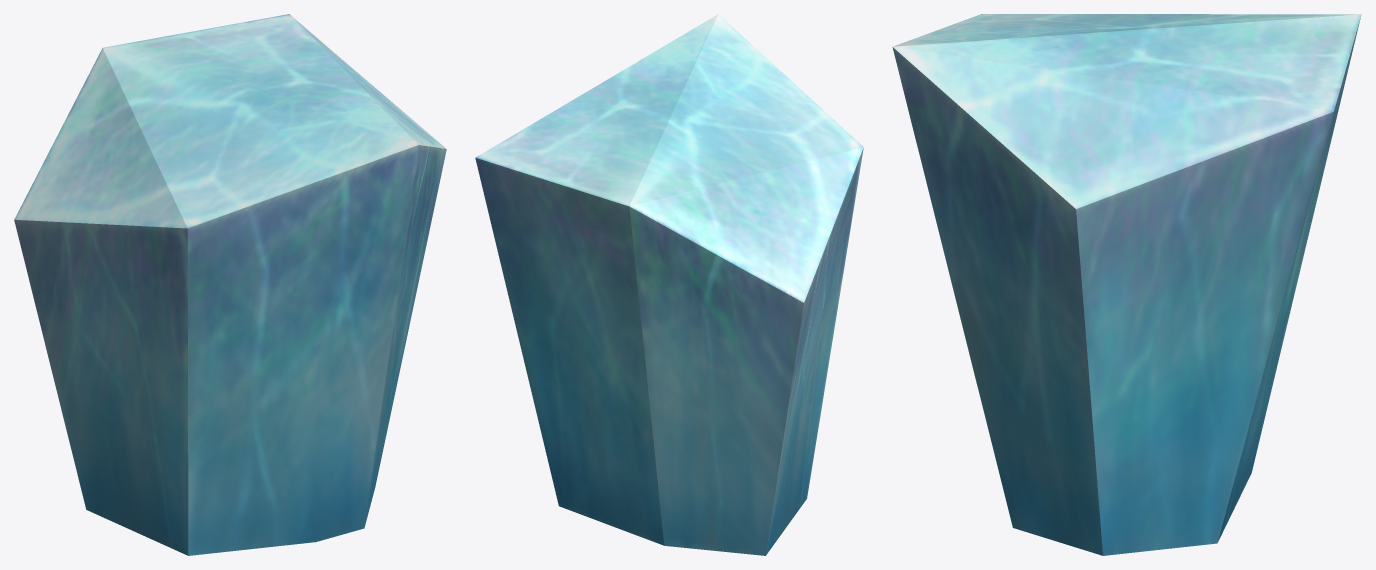
File: Ice.FBX
3 views of the same model, side by side, from view 1: azimuth 30°, elevation 25°; view 2: azimuth 150°, elevation 25°; view 3: azimuth 270°, elevation 25° (orthographic). The views are drawn at different scales.
Parts seen in each view (by area): view 1: Ice; view 2: Ice; view 3: Ice.
Boxes of the visible parts, x1,y1,x2,y2 form: Ice: (14, 14, 446, 555); Ice: (475, 14, 863, 555); Ice: (892, 14, 1361, 555).
Size of the model in its own units: 189 by 188 by 214.
Materials: 1 (1 with a texture image).
